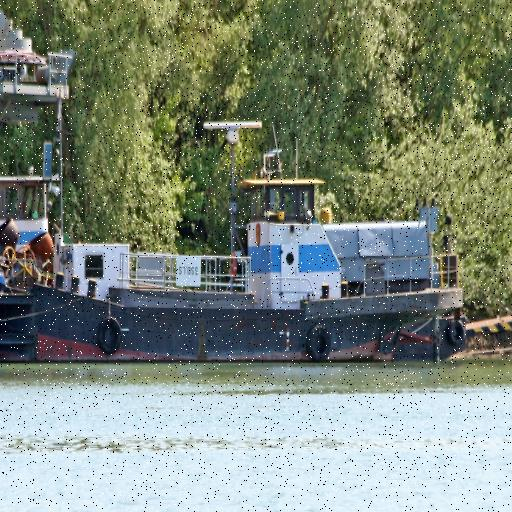tugboat: (1, 119, 475, 370)
